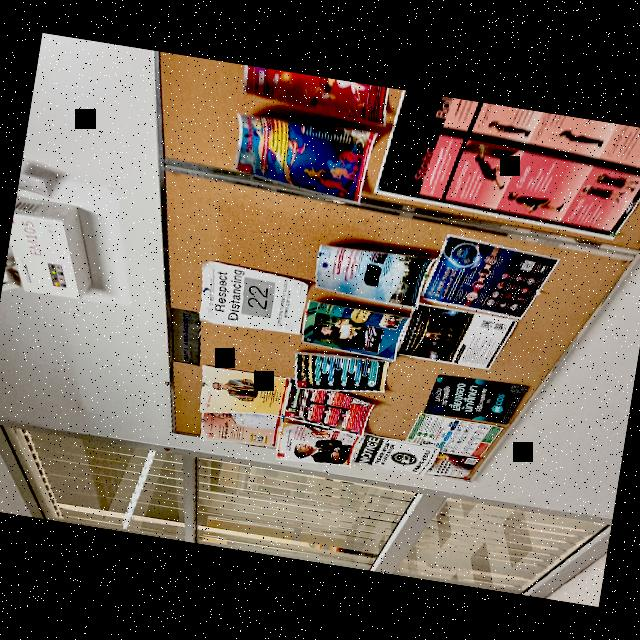reuseable_paper: (373, 88, 640, 247), (188, 216, 422, 389), (395, 222, 555, 388), (215, 64, 394, 210), (364, 353, 522, 496), (195, 362, 376, 474)
